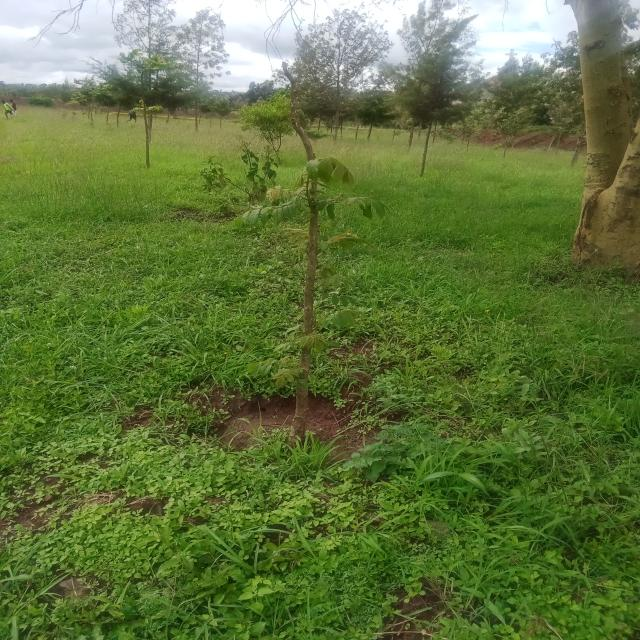Polyscias Kikuyensis: (255, 64, 393, 431)
